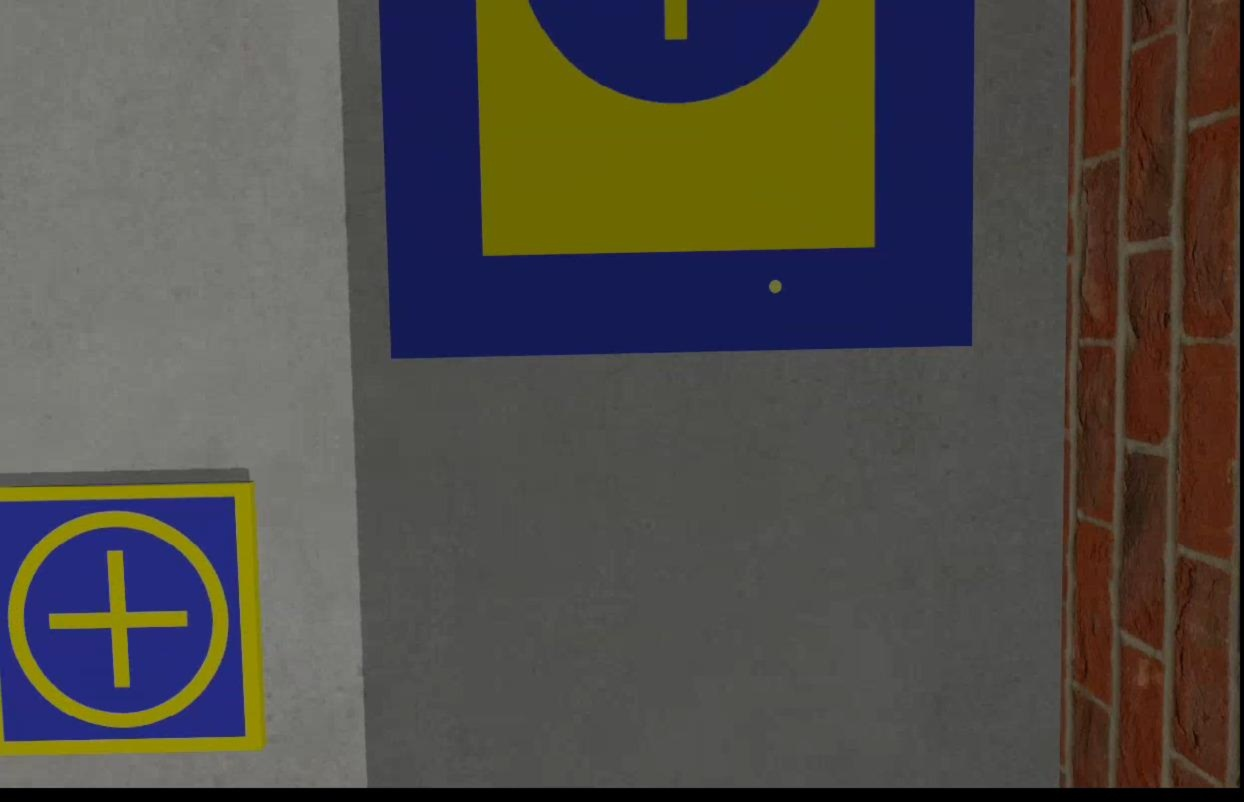large_base: (375, 1, 982, 362)
small_base: (0, 476, 260, 757)
